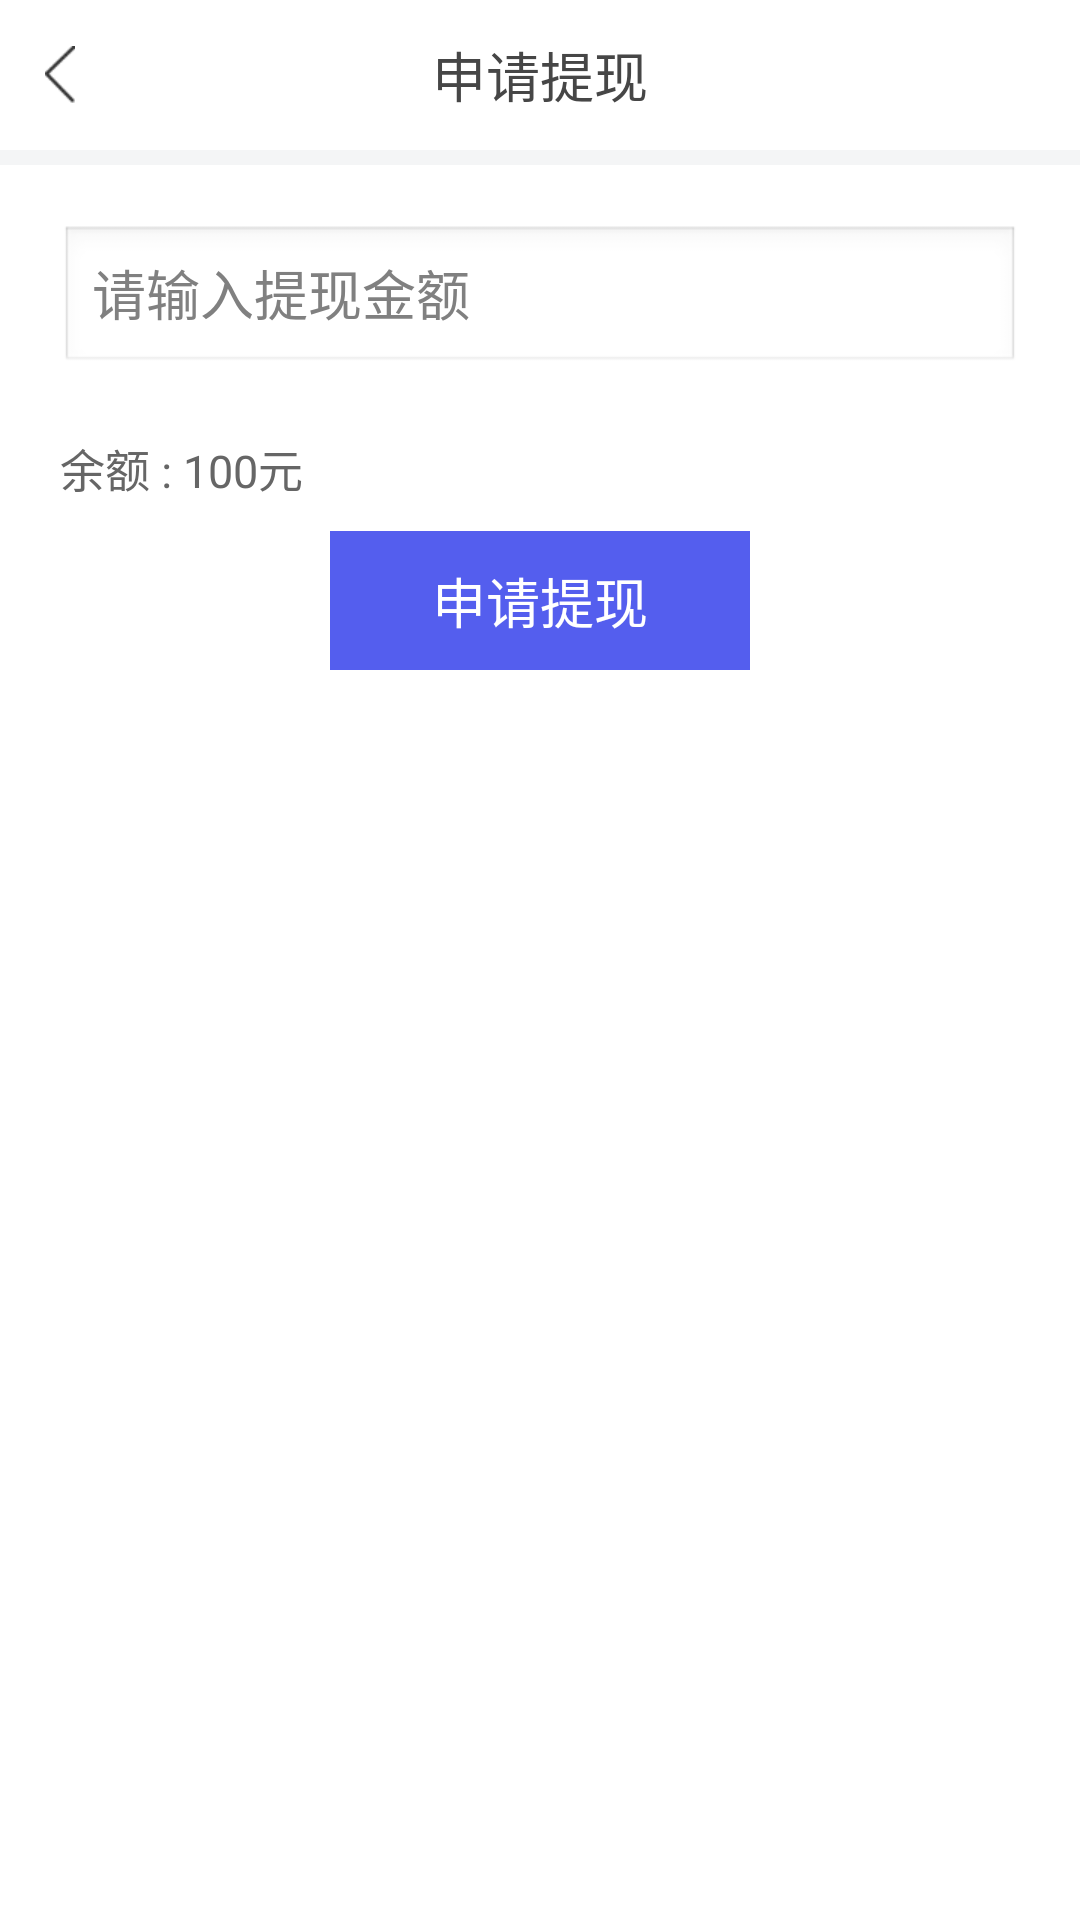

Screen size 1080 x 1920. Icon name, then its box in pixels as Rect(x1, y1, x2, y2):
back: Rect(45, 46, 75, 103)
